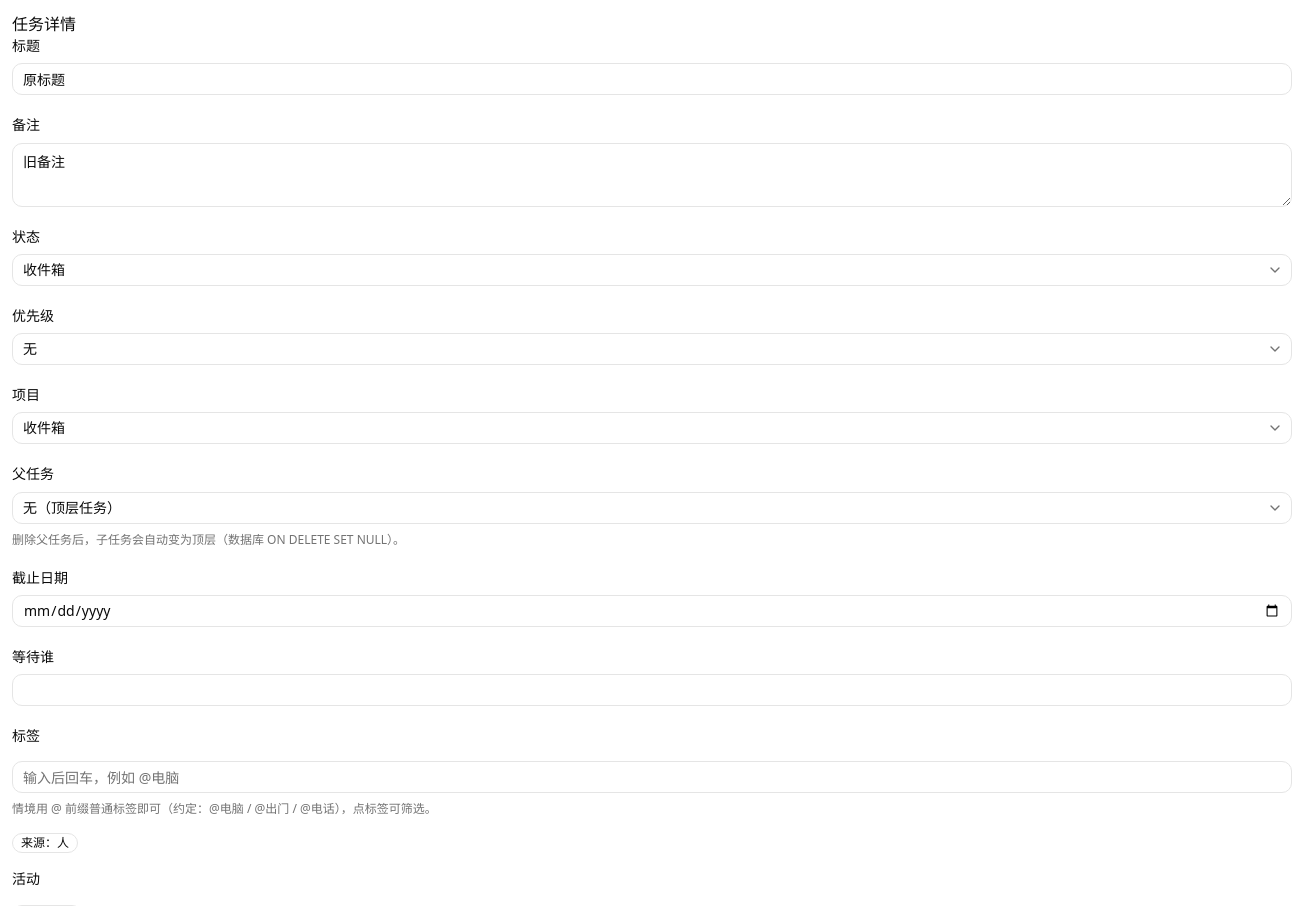
Test case: task detail autosave (#115) › 保存失败：保留输入、列表只回滚这几个字段、显示「保存失败 · 重试」，重试成功
This screenshot has width=1304, height=906.
Replace the text in the field labelled "标题" with "新标题" at point(652, 79), box [12,63,1292,95]
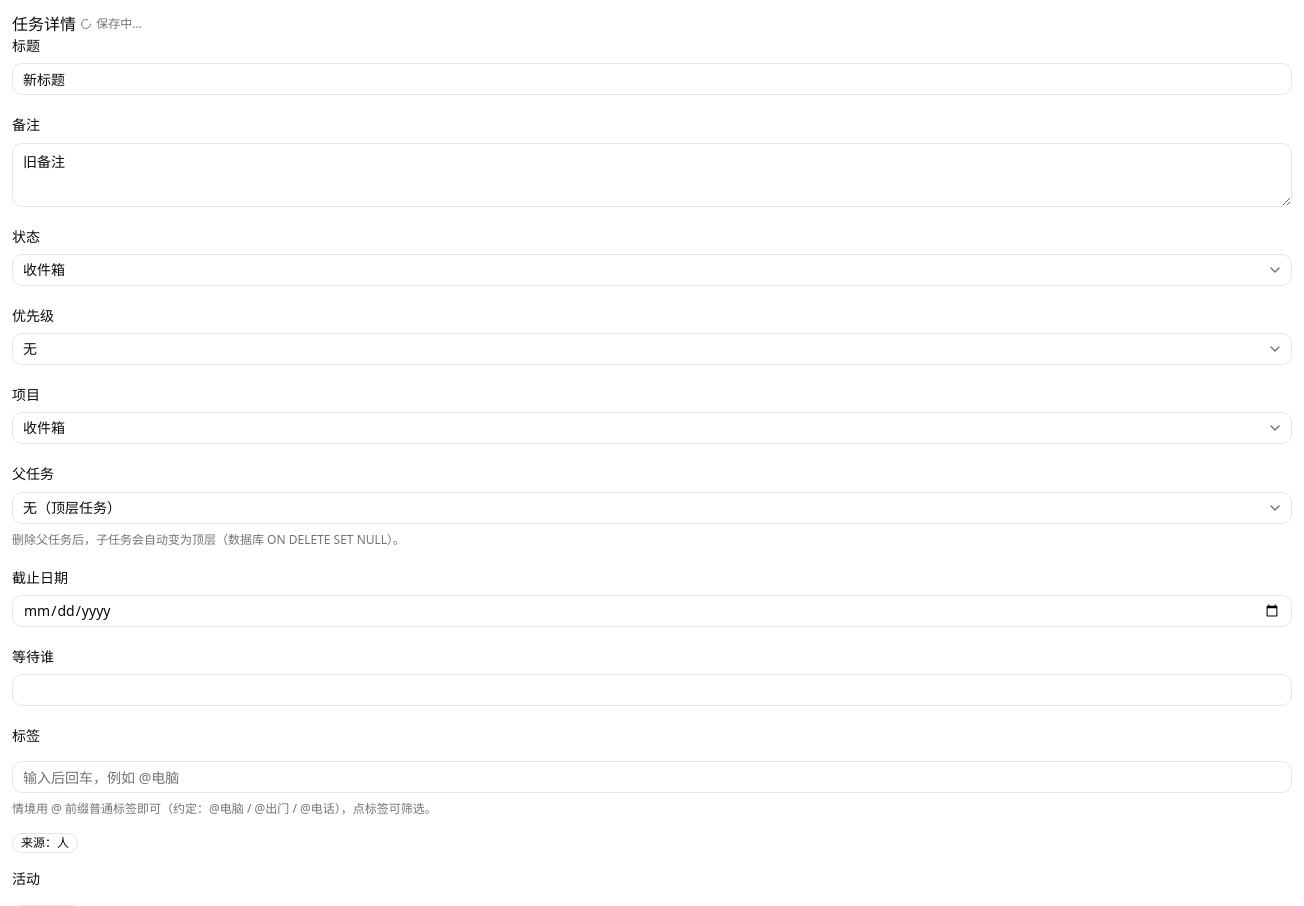
Leave the field labelled "标题", box [12,63,1292,95]
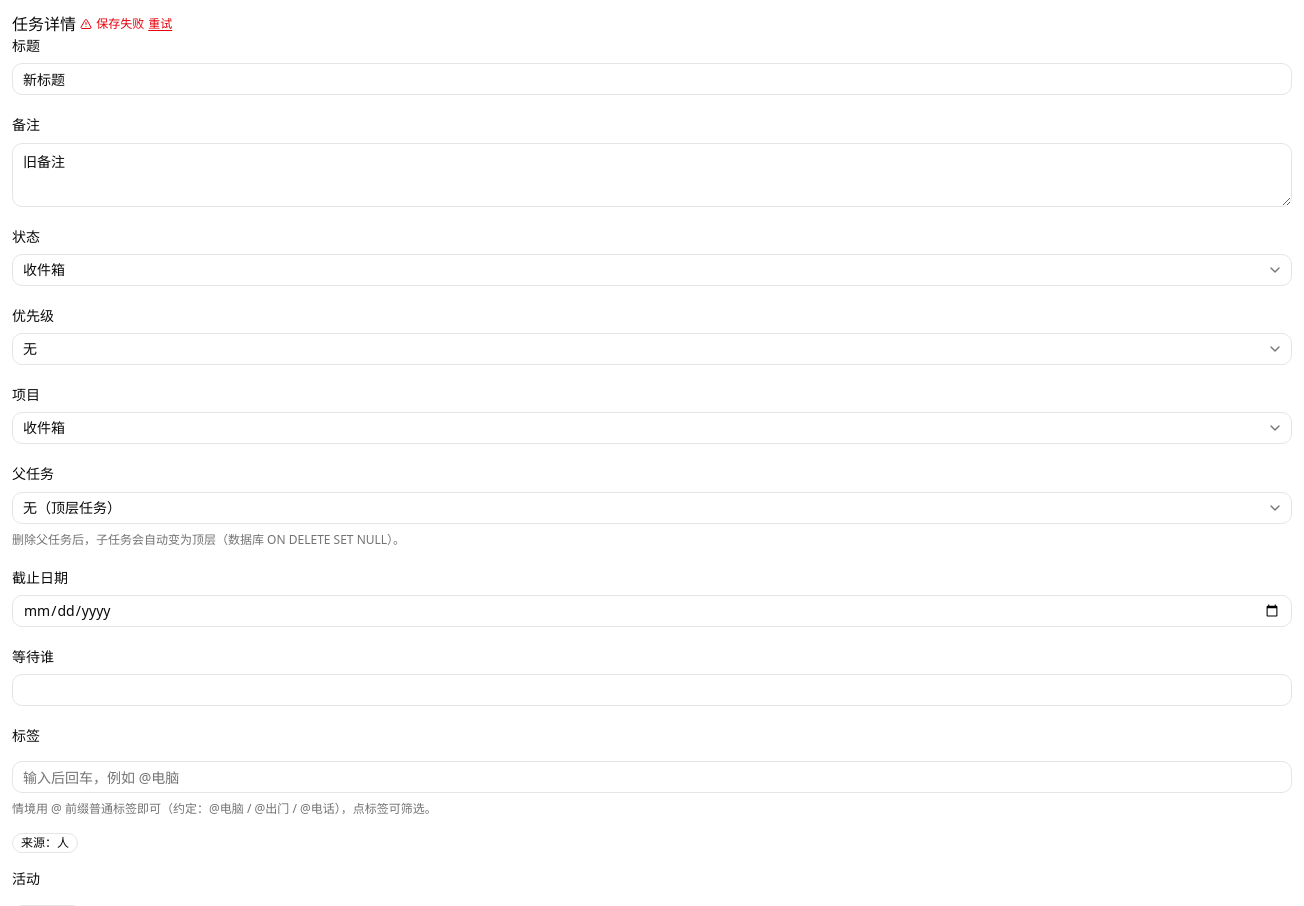
Now the message "保存失败 重试" is shown, box [80,15,172,32]
Click the button "重试" at point(160, 24), box [148,16,172,32]
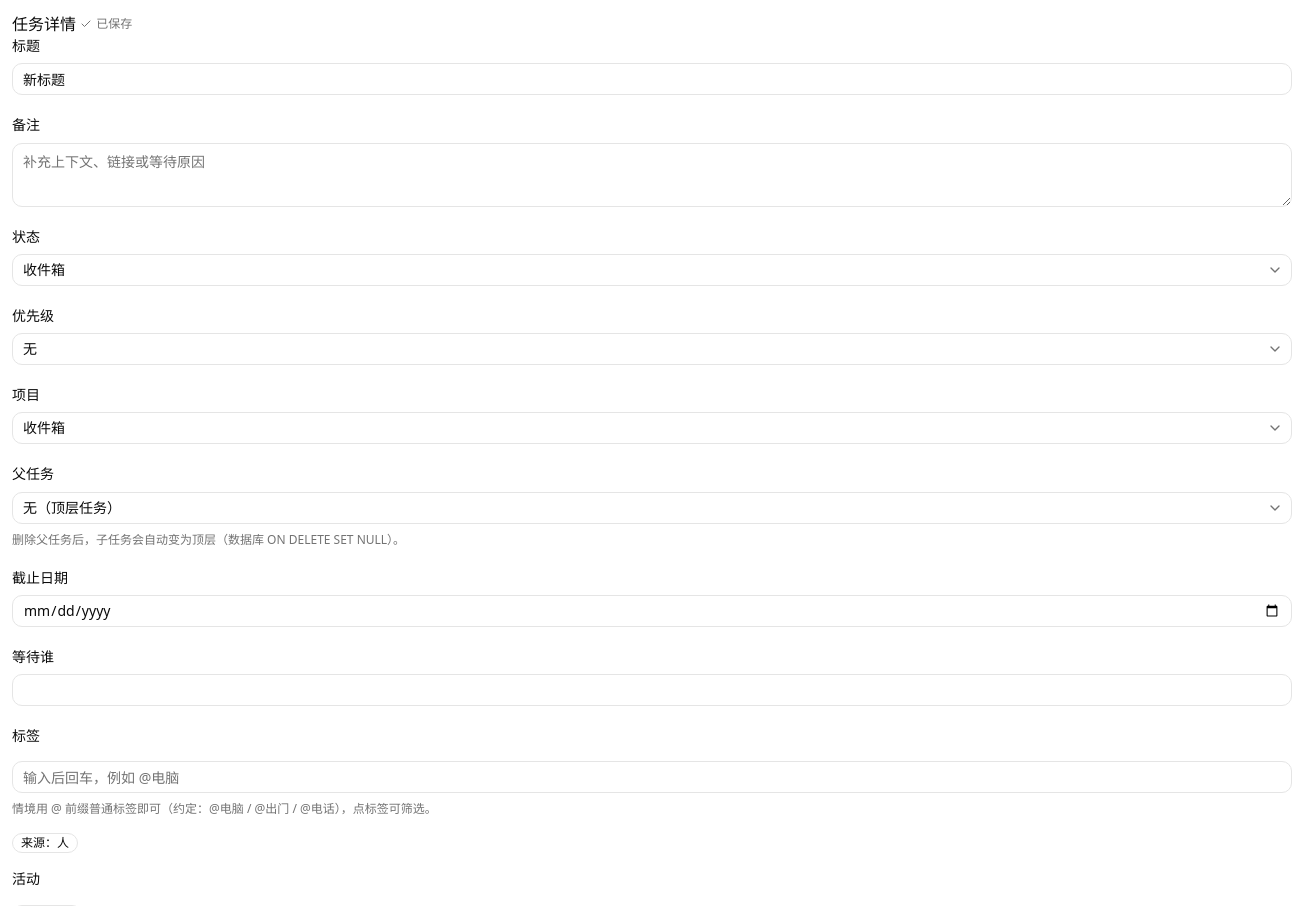
Now the text "已保存" is shown, box [96,16,132,32]
